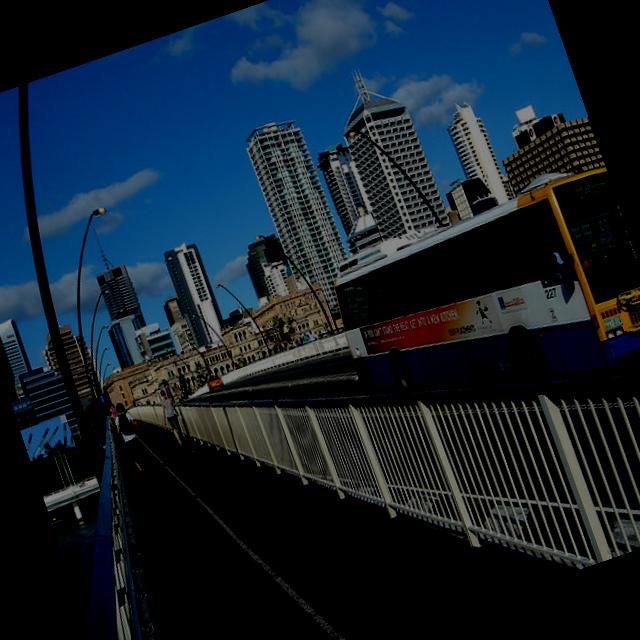Vehicle: (312, 151, 640, 448), (203, 370, 224, 392)
